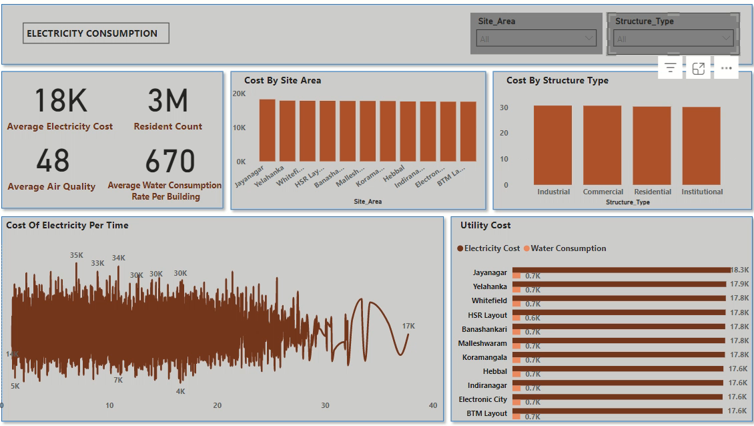

The page's visual inventory and layout, read from the dashboard file:
{"tool":"powerbi","page":{"name":"Page 1","canvas":[1280,720],"ordinal":0},"visuals":[{"type":"shape","box":[6.7,0,1268.3,118.3],"z":0},{"type":"shape","box":[6.3,352.8,754.7,359.2],"z":1000},{"type":"shape","box":[754.7,352.8,520.5,359.2],"z":2000},{"type":"shape","box":[824.3,112.3,449.3,248.4],"z":3000},{"type":"shape","box":[387.6,112.3,443,248.4],"z":4000},{"type":"shape","box":[6.3,112.3,387.6,246.8],"z":5000},{"type":"clusteredColumnChart","fields":{"Y":["Avg(Train_with_Pin_and_Geo.Recycling_Rate )"],"Category":["Train_with_Pin_and_Geo.Structure_Type "]},"box":[840.7,145.8,413.4,203.7],"z":6000},{"type":"columnChart","fields":{"Category":["Train_with_Pin_and_Geo.Site_Area"],"Y":["Avg(Train_with_Pin_and_Geo.Electricity_Cost)"]},"box":[386,144,438,204],"z":7000},{"type":"textbox","box":[851.4,117.6,226.9,36.4],"z":8000},{"type":"textbox","box":[415.8,117.6,155.7,36.4],"z":9000},{"type":"textbox","box":[775.2,359.5,155.7,36.4],"z":10000},{"type":"clusteredBarChart","fields":{"Category":["Train_with_Pin_and_Geo.Site_Area"],"Y":["Avg(Train_with_Pin_and_Geo.Electricity_Cost)","Avg(Train_with_Pin_and_Geo.Water_Consumption_Per_Building)"]},"box":[768.9,395.6,496.8,319.6],"z":11000},{"type":"lineChart","fields":{"Y":["Avg(Train_with_Pin_and_Geo.Electricity_Cost)"],"Category":["Train_with_Pin_and_Geo.Issue_Resolution_Time"]},"box":[0,395.4,748.8,299.5],"z":12000},{"type":"textbox","box":[18.2,359.5,231.9,51.4],"z":13000},{"type":"textbox","box":[18.2,117.6,253.4,51.4],"z":14000},{"type":"slicer","fields":{"Values":["Train_with_Pin_and_Geo.Structure_Type "]},"box":[1025.4,23.2,220.3,69.6],"z":15000},{"type":"slicer","fields":{"Values":["Train_with_Pin_and_Geo.Site_Area"]},"box":[796.8,23.2,220.3,69.6],"z":16000},{"type":"card","fields":{"Values":["Avg(Train_with_Pin_and_Geo.Electricity_Cost)"]},"box":[11.1,99.7,202.5,145.6],"z":17000},{"type":"card","fields":{"Values":["Avg(Train_with_Pin_and_Geo.Air_Quality_Index)"]},"box":[0,199.4,202.5,145.6],"z":18000},{"type":"card","fields":{"Values":["Sum(Train_with_Pin_and_Geo.Resident_Count)"]},"box":[191.4,99.7,202.5,145.6],"z":19000},{"type":"card","title":"Water Consumption Rate Per Building","fields":{"Values":["Avg(Train_with_Pin_and_Geo.Water_Consumption_Per_Building)"]},"box":[194.6,189.9,202.5,145.6],"z":20000},{"type":"textbox","box":[185.1,294.3,208.9,83.9],"z":21000},{"type":"textbox","box":[52.4,40.8,243.1,34.9],"z":22000}]}

Visuals, with their boxes in screenshot pixels (x1, y1, x2, y2), scaled from the page's 1280x720 canvas onto the 754x426 screenshot:
shape: x1=4, y1=0, x2=751, y2=70
shape: x1=4, y1=209, x2=448, y2=421
shape: x1=445, y1=209, x2=751, y2=421
shape: x1=486, y1=66, x2=750, y2=213
shape: x1=228, y1=66, x2=489, y2=213
shape: x1=4, y1=66, x2=232, y2=212
clusteredColumnChart - Avg(Train_with_Pin_and_Geo.Recycling_Rate ) x Train_with_Pin_and_Geo.Structure_Type : x1=495, y1=86, x2=739, y2=207
columnChart - Train_with_Pin_and_Geo.Site_Area x Avg(Train_with_Pin_and_Geo.Electricity_Cost): x1=227, y1=85, x2=485, y2=206
textbox: x1=502, y1=70, x2=635, y2=91
textbox: x1=245, y1=70, x2=337, y2=91
textbox: x1=457, y1=213, x2=548, y2=234
clusteredBarChart - Train_with_Pin_and_Geo.Site_Area x Avg(Train_with_Pin_and_Geo.Electricity_Cost): x1=453, y1=234, x2=746, y2=423
lineChart - Avg(Train_with_Pin_and_Geo.Electricity_Cost) x Train_with_Pin_and_Geo.Issue_Resolution_Time: x1=0, y1=234, x2=441, y2=411
textbox: x1=11, y1=213, x2=147, y2=243
textbox: x1=11, y1=70, x2=160, y2=100
slicer - Train_with_Pin_and_Geo.Structure_Type : x1=604, y1=14, x2=734, y2=55
slicer - Train_with_Pin_and_Geo.Site_Area: x1=469, y1=14, x2=599, y2=55
card - Avg(Train_with_Pin_and_Geo.Electricity_Cost): x1=7, y1=59, x2=126, y2=145
card - Avg(Train_with_Pin_and_Geo.Air_Quality_Index): x1=0, y1=118, x2=119, y2=204
card - Sum(Train_with_Pin_and_Geo.Resident_Count): x1=113, y1=59, x2=232, y2=145
"Water Consumption Rate Per Building" card: x1=115, y1=112, x2=234, y2=199
textbox: x1=109, y1=174, x2=232, y2=224
textbox: x1=31, y1=24, x2=174, y2=45
